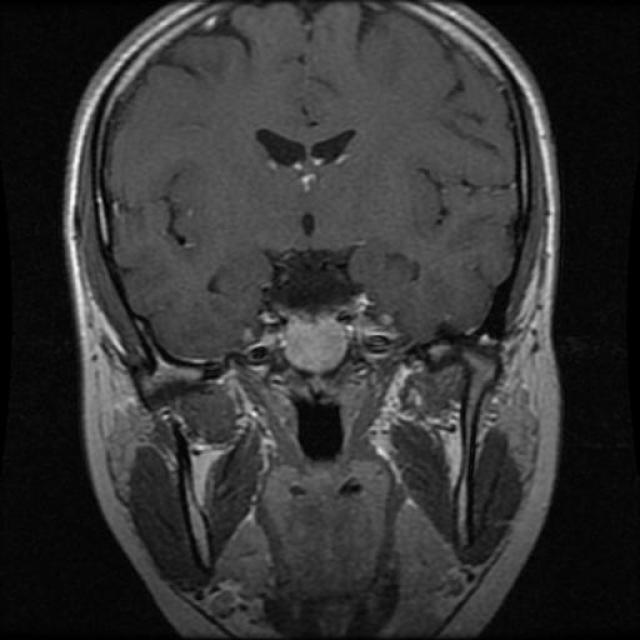pituitary: (257, 306, 373, 384)
